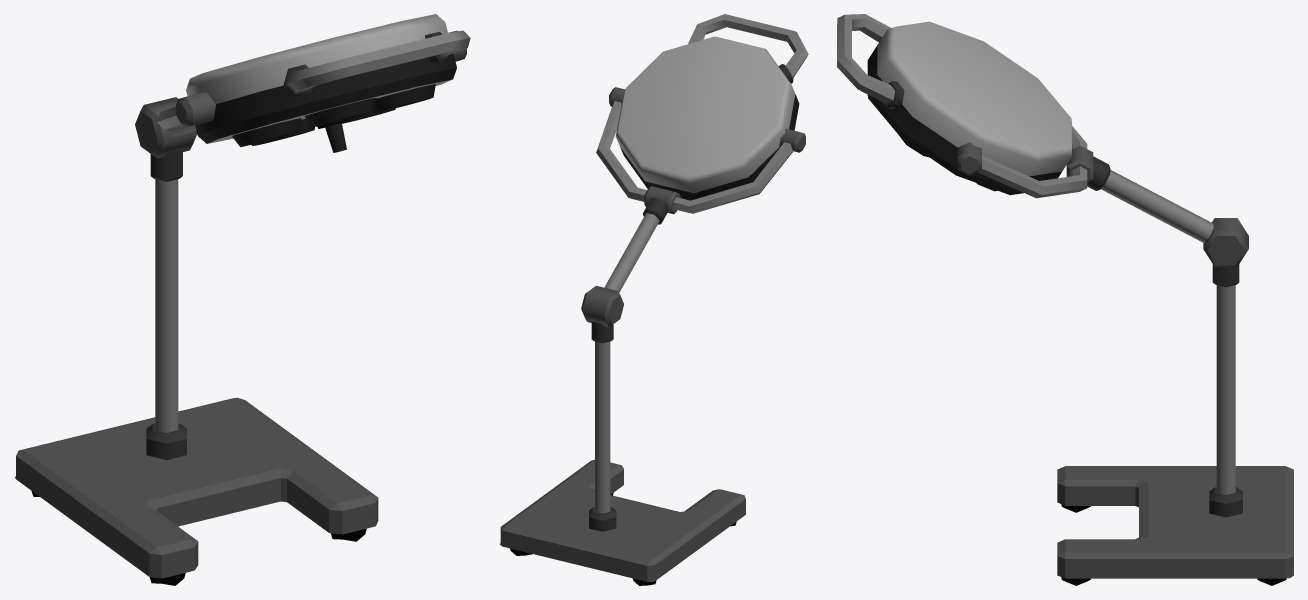
Rendered from Surgical Lights 01.fbx.
3 views of the same model, side by side, from view 1: azimuth 30°, elevation 25°; view 2: azimuth 150°, elevation 25°; view 3: azimuth 270°, elevation 25° (orthographic). The views are drawn at different scales.
Visible parts, largest first — view 1: Surgical_Lights_01; view 2: Surgical_Lights_01; view 3: Surgical_Lights_01.
Boxes of the visible parts, x1,y1,x2,y2 form: Surgical_Lights_01: (14, 14, 470, 585); Surgical_Lights_01: (499, 14, 808, 585); Surgical_Lights_01: (837, 14, 1293, 585).
Bounding box in the file's own units: 122 × 256 × 208.
